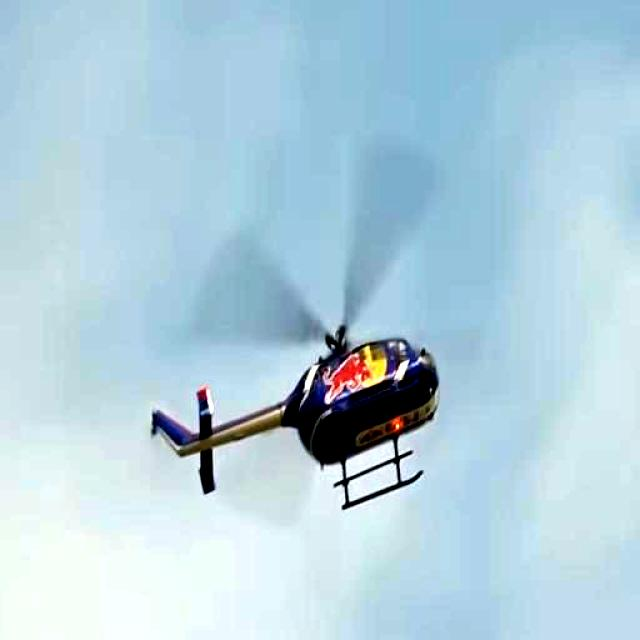drone: (130, 256, 450, 545)
